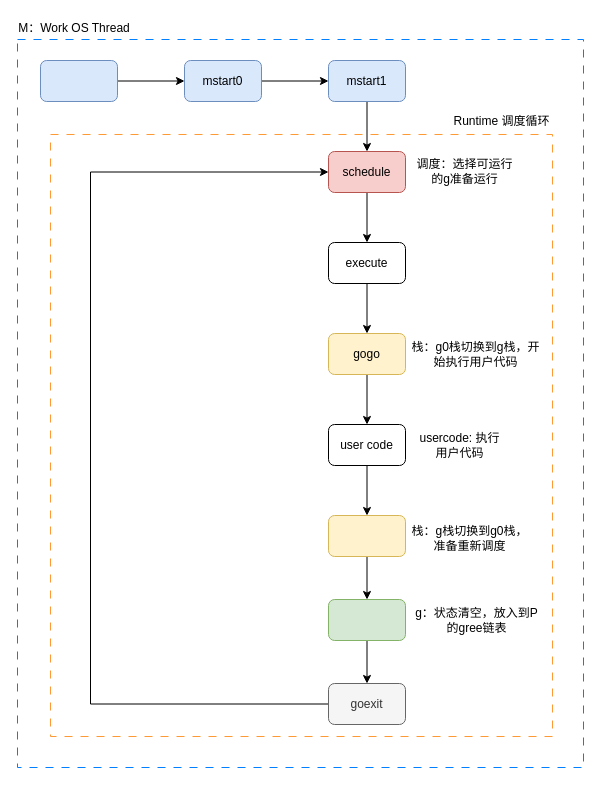
Image size: 601x785. Some labels were removed from this diagram. The shapes that lost their labels are listed below. From the top down, each one's centre as x and y in pixels, then its label:
the point at 79,81: mstart
the point at 367,535: mcall
the point at 367,619: gfput
